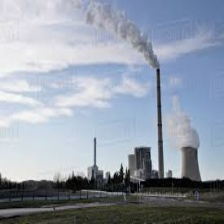smoke: (76, 6, 160, 66), (173, 101, 203, 148)
